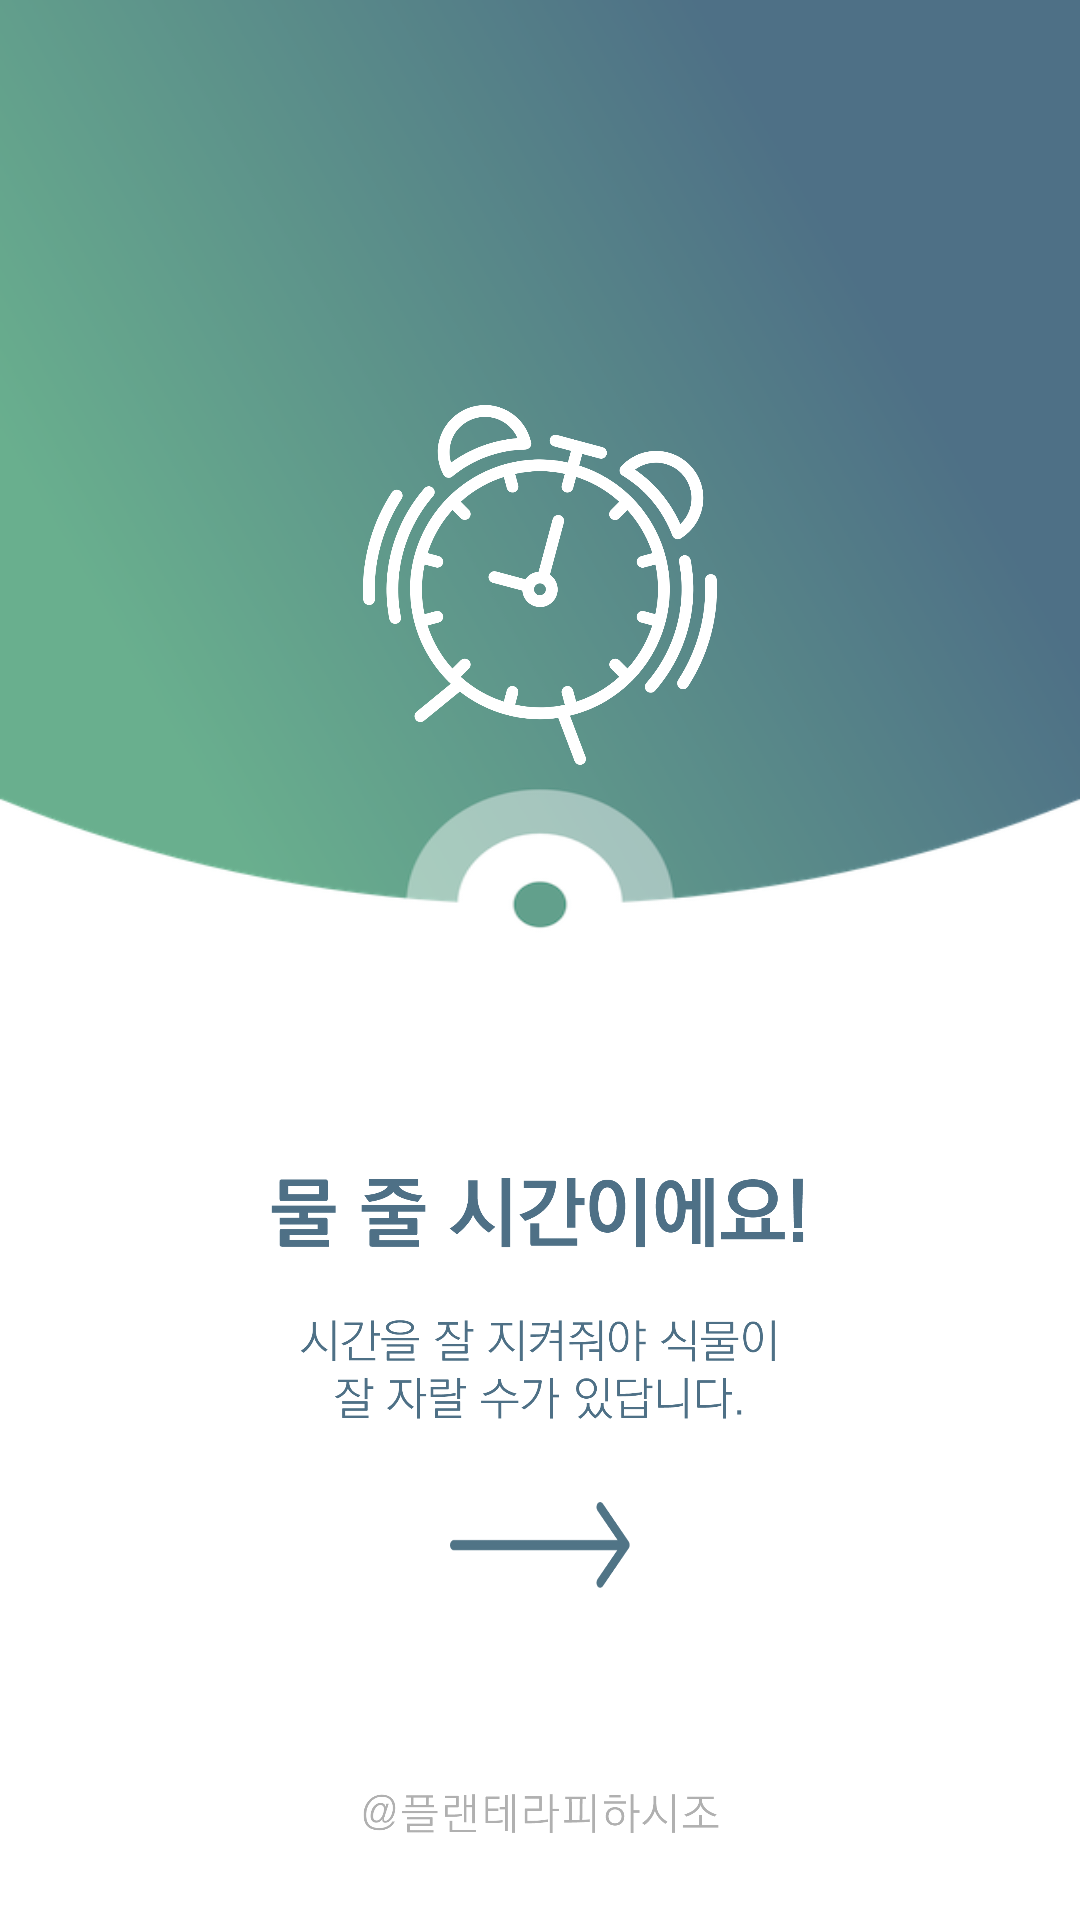

Screen size 1080 x 1920. Icon name, then its center in pixels as [x,y]:
alarm clock: [540,585]
